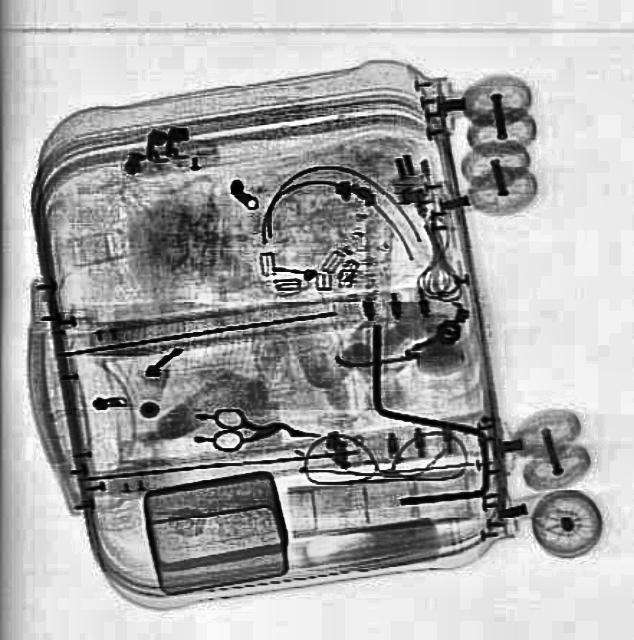Scissors: (210, 406, 314, 454)
